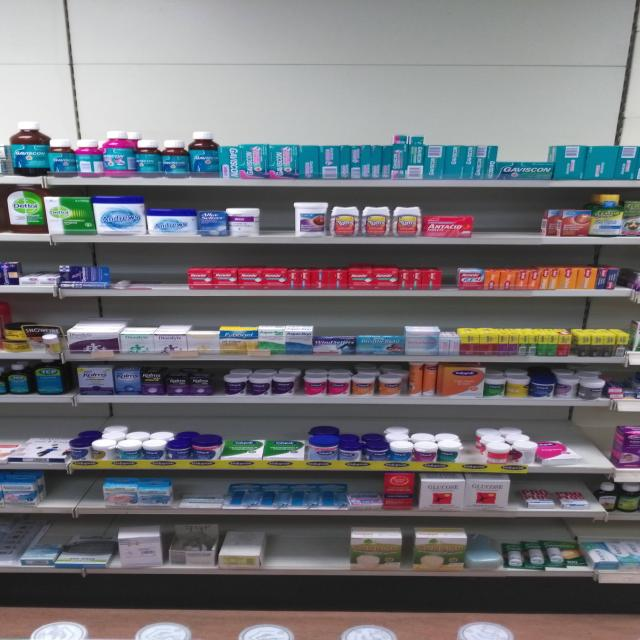void: (271, 529, 347, 571), (120, 249, 184, 293), (481, 190, 536, 237), (51, 474, 101, 510), (264, 189, 293, 237)
